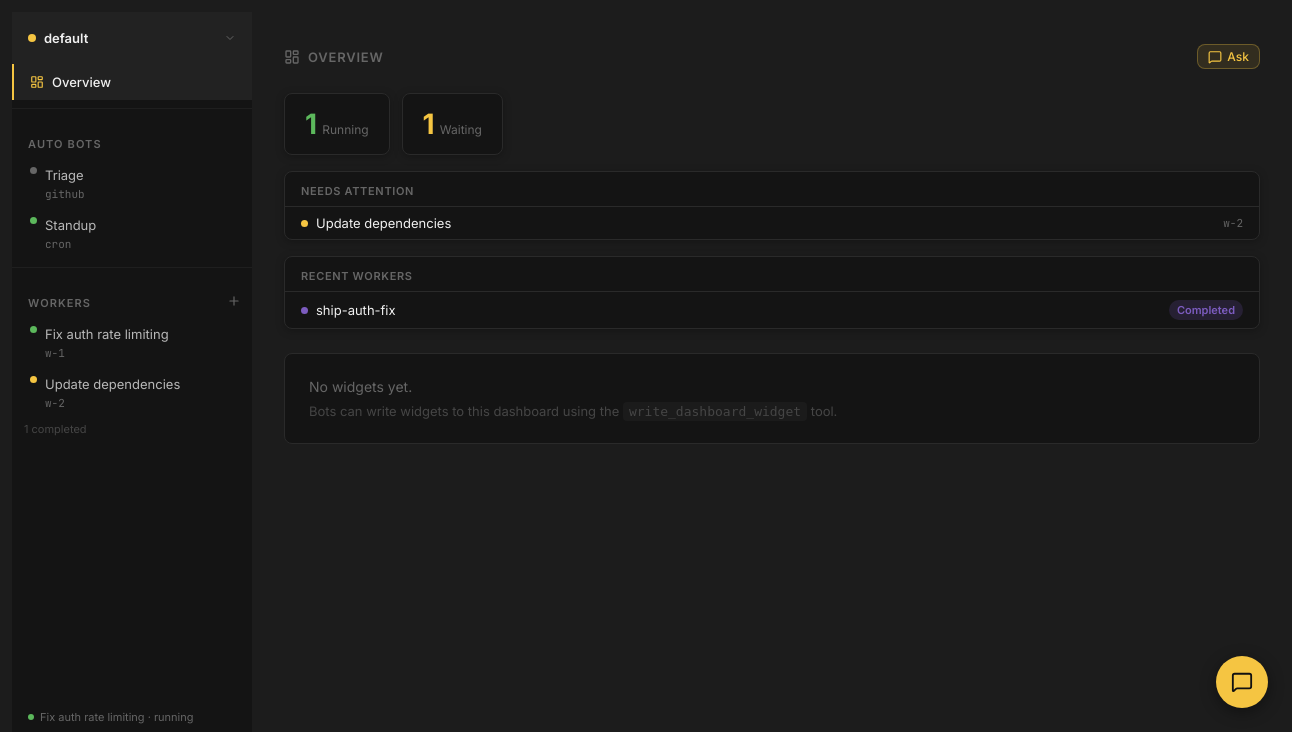
Test: App shell › shows worker detail when a worker is selected
Note: Get all buttons with that name and click the first (sidebar) one
Click the button "Fix auth rate limiting w-1".
click(132, 343)  # box [12,318,252,368]
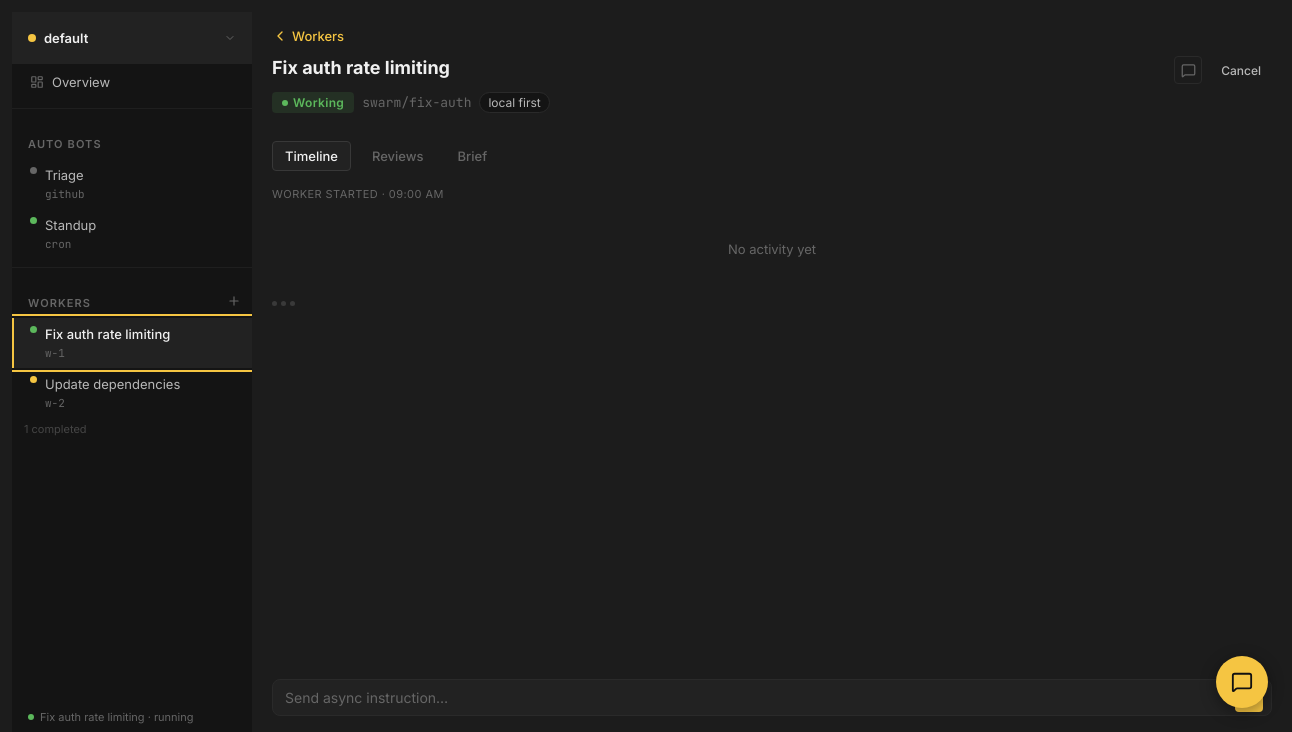
Check: the navigation bar named "Sidebar" is shown, box [12,12,252,731]
Check: the heading "Fix auth rate limiting" is shown, box [272,57,450,78]
